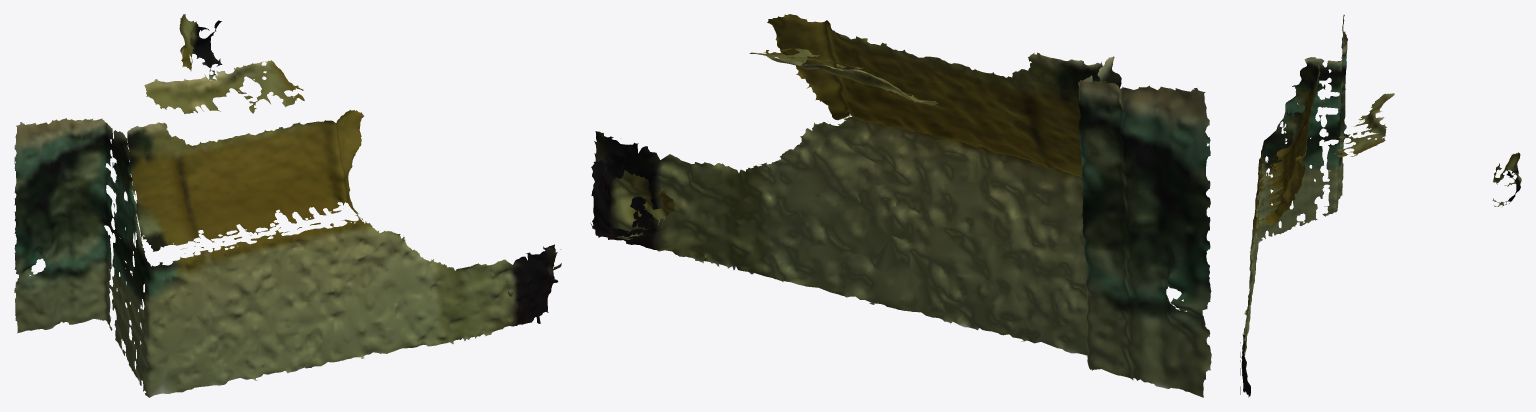
File: color_model_f003_20260211_234457.obj
3 views of the same model, side by side, from view 1: azimuth 30°, elevation 25°; view 2: azimuth 150°, elevation 25°; view 3: azimuth 270°, elevation 25° (orthographic). The views are drawn at different scales.
Size of the model in its own units: 2.16 by 1.13 by 1.39.
